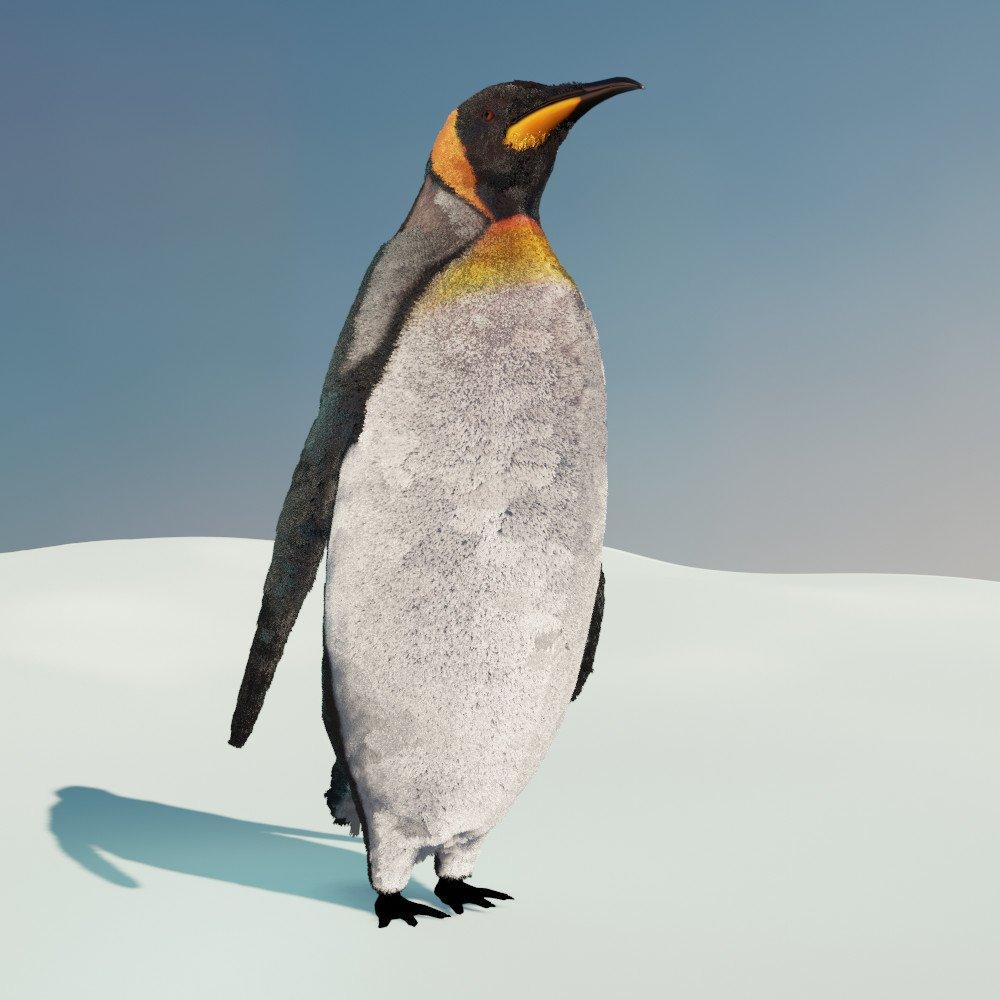king: (139, 36, 712, 961)
